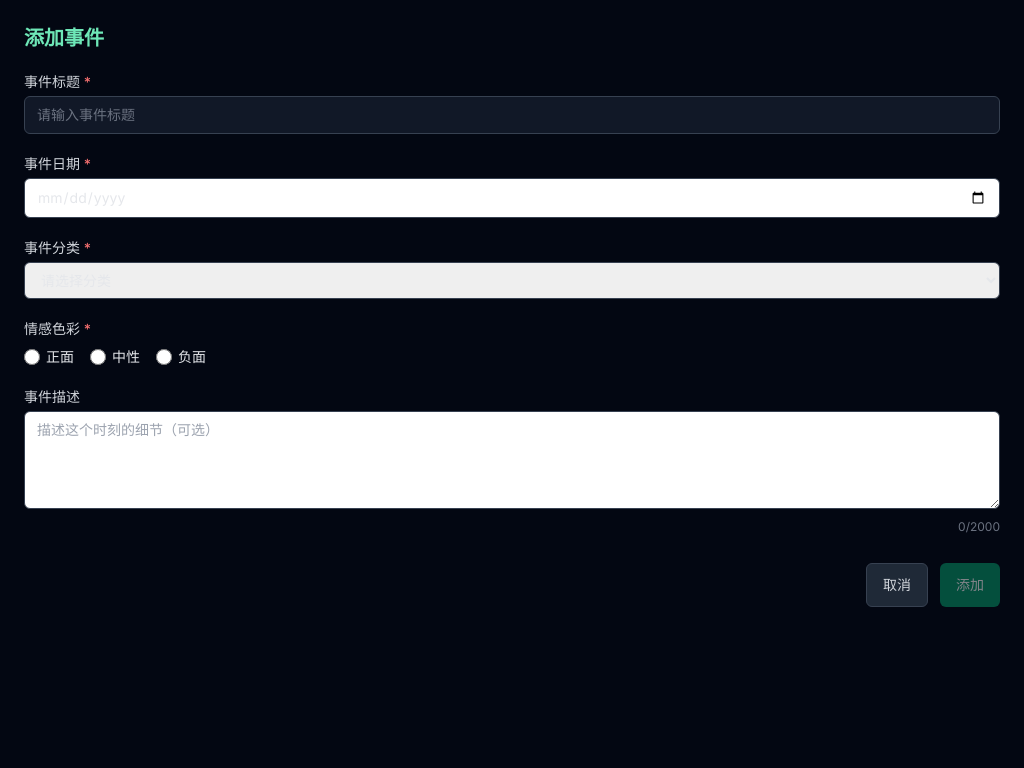
Scenario: EventForm › Unsaved changes cancel › should show ConfirmDialog when form is dirty and cancel is clicked
// Make form dirty
Type "Some title" into the field labelled "事件标题 *" at (512, 115), box [24,96,1000,134]
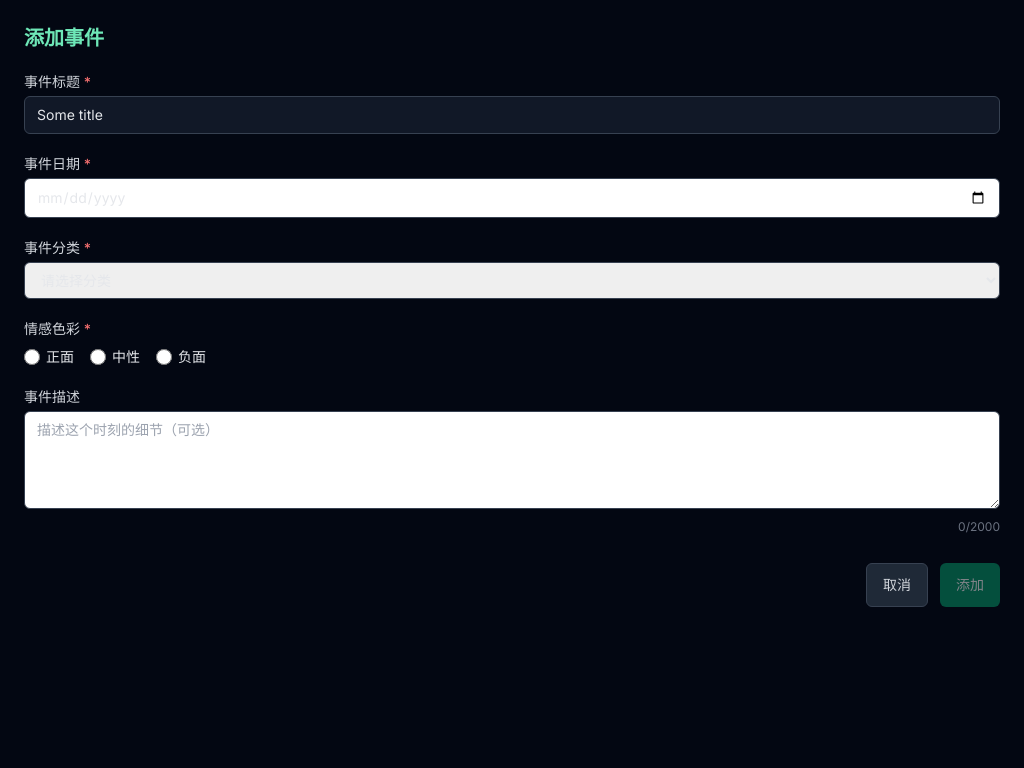
// Click cancel
Click the button "取消" at (897, 585), box [866,563,928,607]
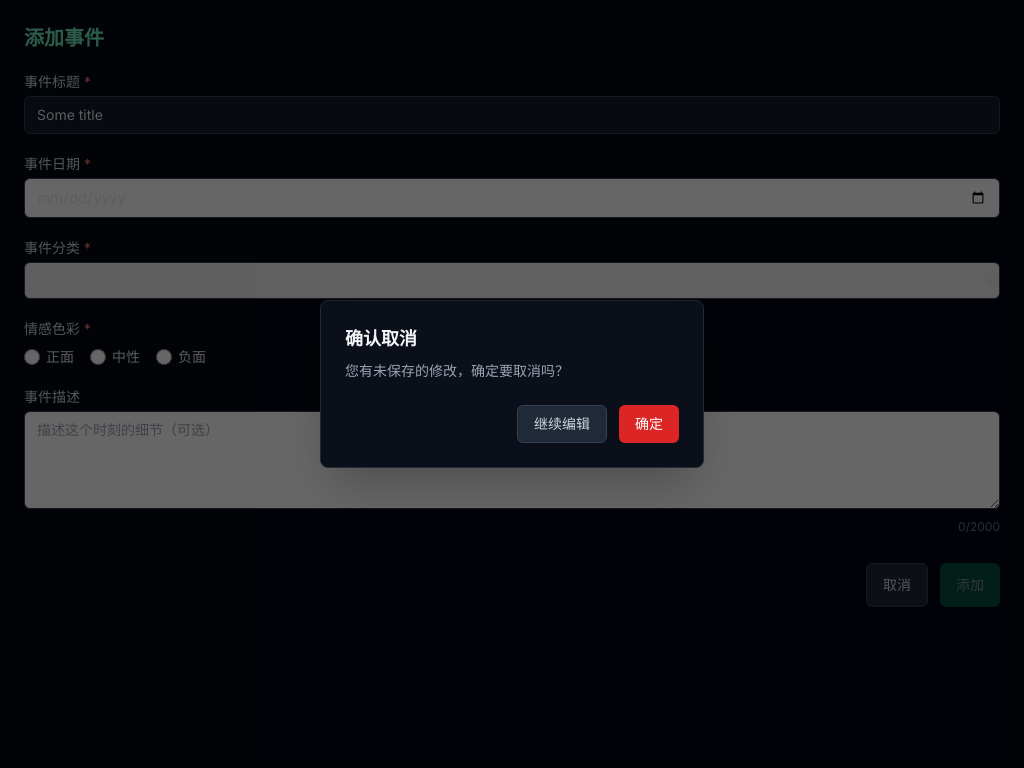
Check: the dialog is shown, box [320,300,704,468]
Check: the text "您有未保存的修改，确定要取消吗？" is shown, box [345,362,569,379]
